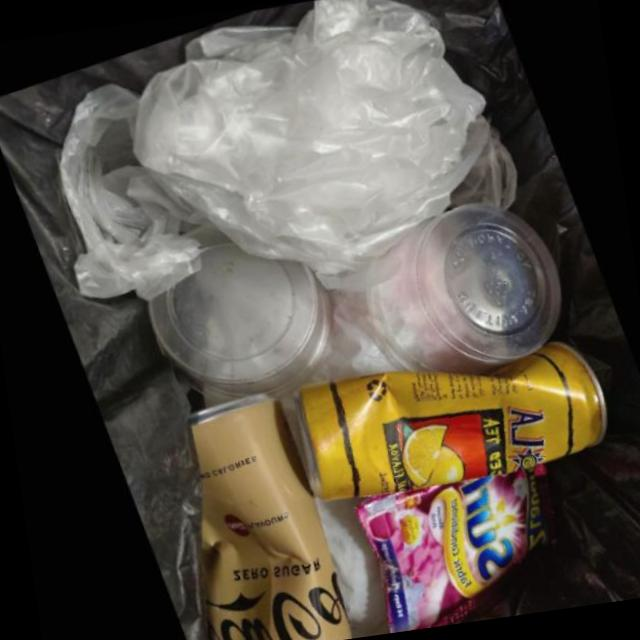goi_nhua_nho: (348, 463, 544, 635)
hop_nhua: (361, 201, 557, 374), (144, 223, 327, 397)
nhom: (290, 340, 601, 498), (183, 392, 345, 640)
tui_ni_long: (56, 0, 514, 297)
